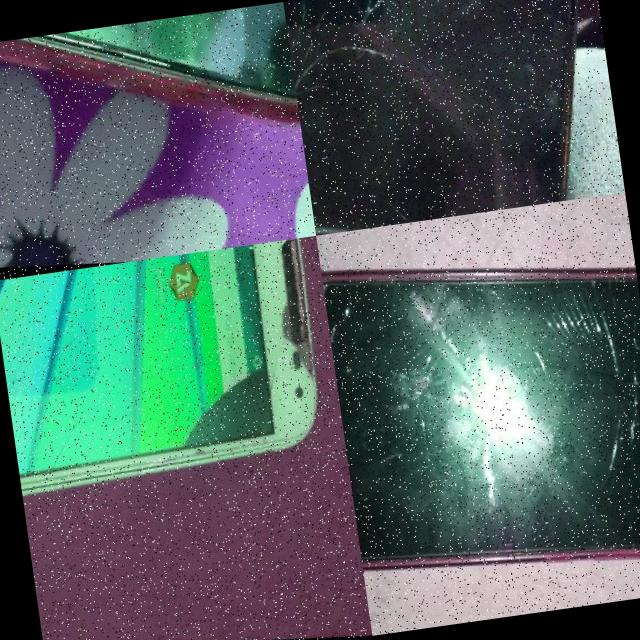screen crack: (148, 266, 350, 502), (513, 272, 640, 503), (283, 0, 439, 159), (319, 256, 371, 364)
